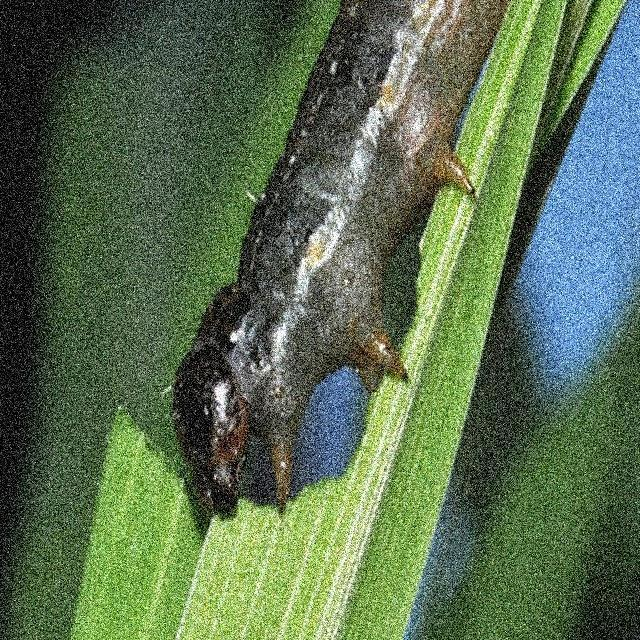gusano_cogollero: (172, 10, 474, 517)
